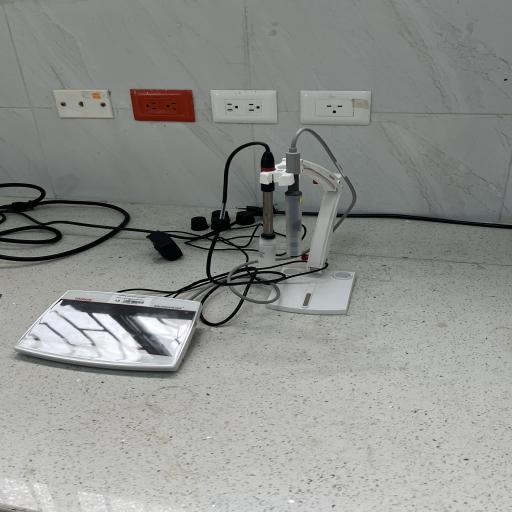Phmetro_Ohaus: (8, 282, 214, 384)
